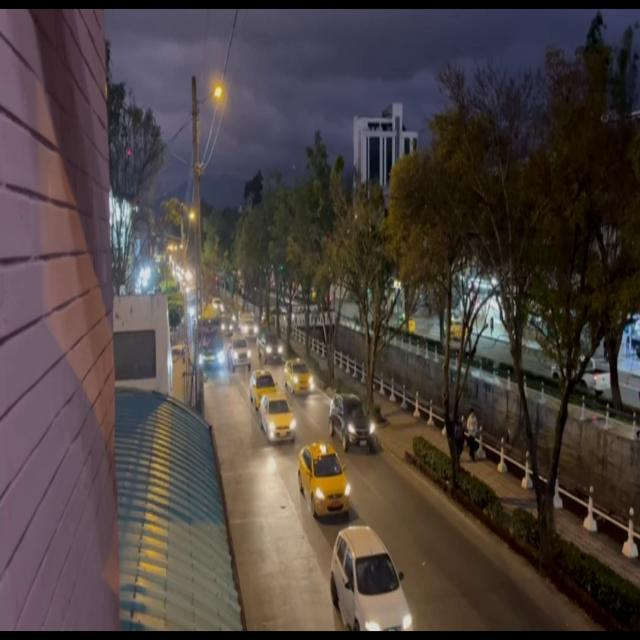BUS: (199, 312, 225, 378)
CMT: (256, 330, 283, 362)
SUV: (329, 392, 373, 451)
